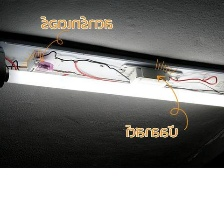light_bulb: (0, 66, 224, 114)
